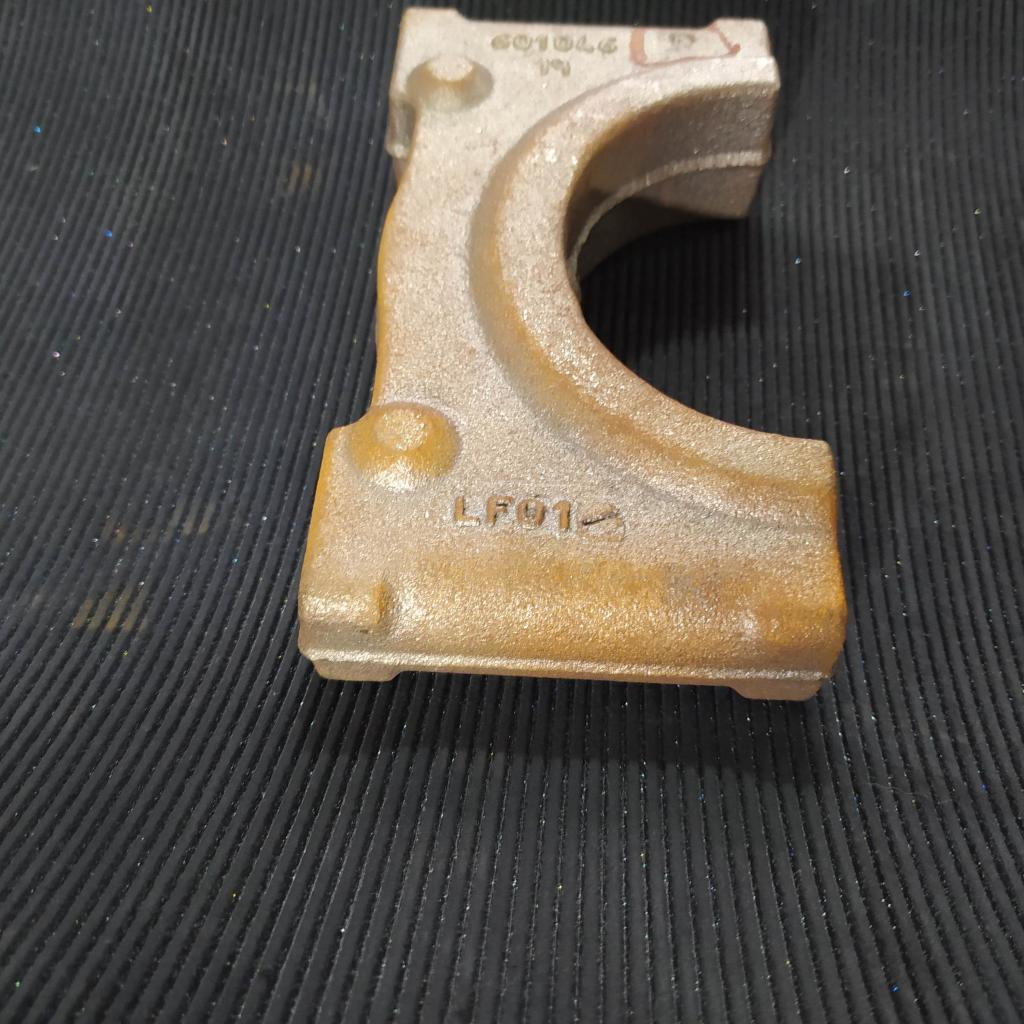buraco: (667, 29, 695, 52)
